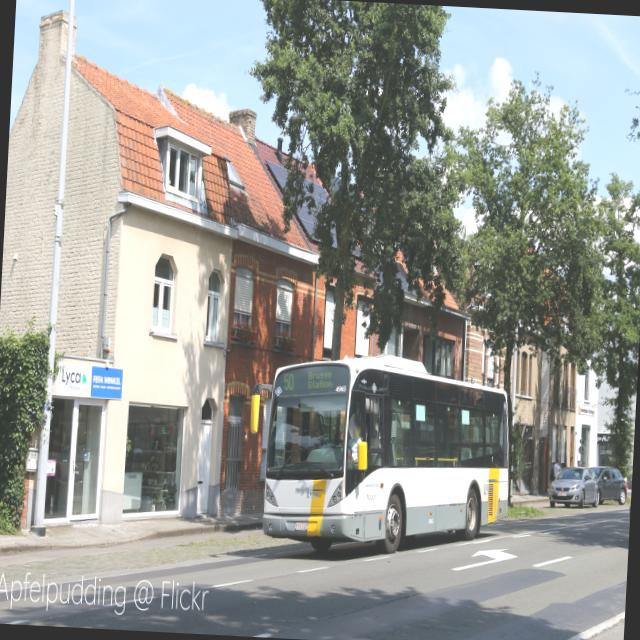bus-number: (283, 372, 295, 392)
